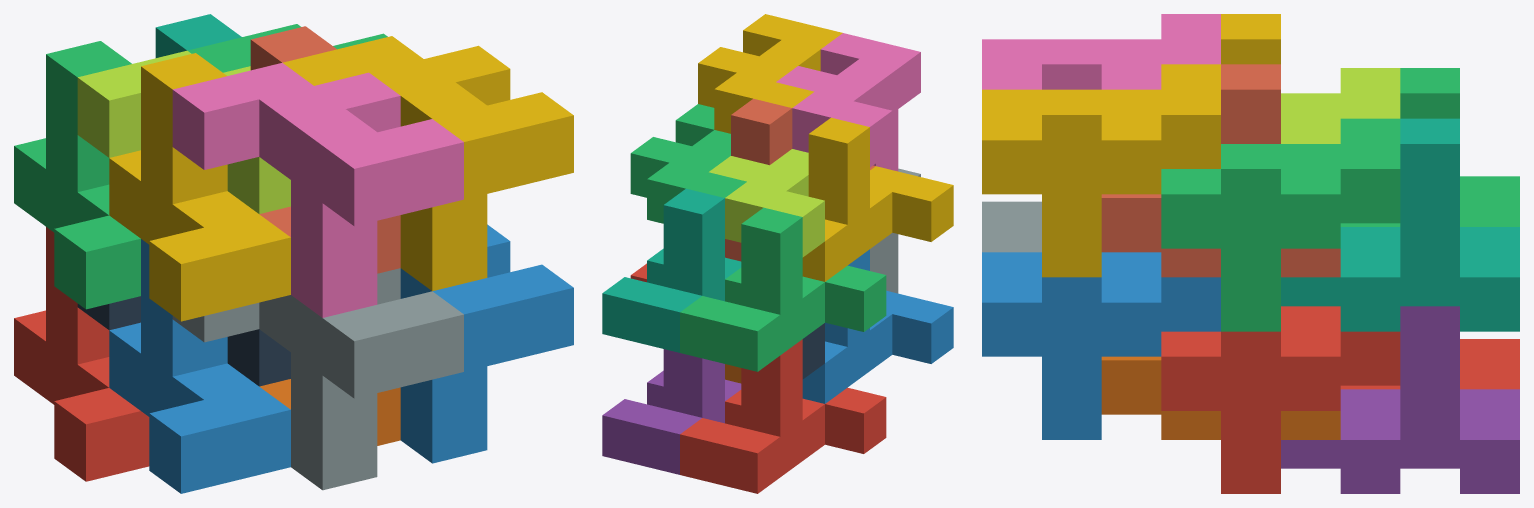
Rendered from tiling.obj.
3 renders of one model, left to right at view 1: azimuth 30°, elevation 25°; view 2: azimuth 150°, elevation 25°; view 3: azimuth 270°, elevation 25°, orthographic. The views are drawn at different scales.
Parts seen in each view (by area): view 1: copy_2_domain_4, copy_2_domain_8, copy_2_domain_2, copy_1_domain_4, copy_1_domain_2, copy_1_domain_3, copy_2_domain_6, copy_1_domain_1, copy_2_domain_3, copy_1_domain_8, copy_2_domain_1, copy_1_domain_7 (+2 smaller); view 2: copy_1_domain_3, copy_1_domain_1, copy_1_domain_4, copy_1_domain_7, copy_2_domain_4, copy_1_domain_5, copy_2_domain_8, copy_1_domain_2, copy_2_domain_7, copy_2_domain_3, copy_1_domain_8, copy_2_domain_2 (+1 smaller); view 3: copy_2_domain_8, copy_2_domain_7, copy_1_domain_7, copy_2_domain_6, copy_2_domain_5, copy_1_domain_5, copy_2_domain_4, copy_1_domain_8, copy_1_domain_6, copy_1_domain_3, copy_2_domain_3, copy_1_domain_1 (+2 smaller).
Boxes of the visible parts, x1,y1,x2,y2 form: copy_2_domain_4: (172, 62, 463, 317); copy_2_domain_8: (283, 36, 573, 291); copy_2_domain_2: (172, 268, 463, 490); copy_1_domain_4: (109, 53, 290, 321); copy_1_domain_2: (109, 239, 290, 493); copy_1_domain_3: (14, 41, 140, 309); copy_2_domain_6: (400, 224, 573, 463); copy_1_domain_1: (14, 227, 149, 481); copy_2_domain_3: (77, 50, 290, 213); copy_1_domain_8: (250, 26, 400, 273); copy_2_domain_1: (77, 296, 290, 386); copy_1_domain_7: (155, 14, 241, 57); copy_1_domain_3: (680, 207, 886, 371); copy_1_domain_1: (680, 339, 886, 493); copy_1_domain_4: (802, 117, 953, 281); copy_1_domain_7: (602, 188, 741, 352); copy_2_domain_4: (776, 33, 920, 171); copy_1_domain_5: (602, 349, 741, 474); copy_2_domain_8: (698, 14, 842, 133); copy_1_domain_2: (802, 249, 953, 403); copy_2_domain_7: (630, 104, 746, 223); copy_2_domain_3: (709, 149, 824, 257); copy_1_domain_8: (725, 98, 875, 261); copy_2_domain_2: (870, 168, 920, 293); copy_2_domain_8: (982, 64, 1220, 277); copy_2_domain_7: (1161, 118, 1400, 331); copy_1_domain_7: (1281, 118, 1519, 331); copy_2_domain_6: (982, 252, 1220, 439); copy_2_domain_5: (1161, 306, 1400, 493); copy_1_domain_5: (1281, 306, 1519, 493); copy_2_domain_4: (982, 14, 1220, 89); copy_1_domain_8: (1101, 64, 1340, 277); copy_1_domain_6: (1101, 356, 1340, 439); copy_1_domain_3: (1340, 68, 1519, 226); copy_2_domain_3: (1281, 68, 1400, 143); copy_1_domain_1: (1340, 339, 1519, 389).
Size of the model in its own units: 6 by 7 by 9.
